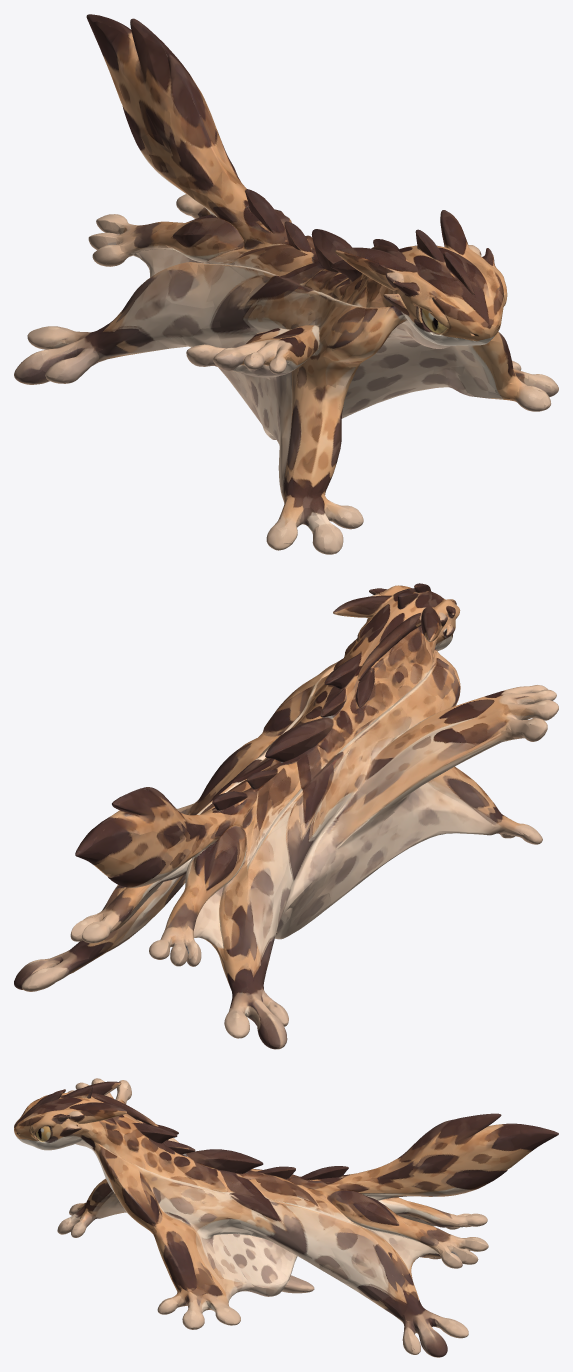
Rendered from Pok52. Lisa de duna.glb.
3 renders of one model, top to bottom at view 1: azimuth 30°, elevation 25°; view 2: azimuth 150°, elevation 25°; view 3: azimuth 270°, elevation 25°, orthographic. The views are drawn at different scales.
Size of the model in its own units: 1.1 by 0.8122 by 1.9.
1 material, 1 textured.
